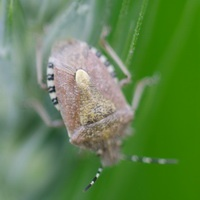insect: (47, 39, 154, 165)
